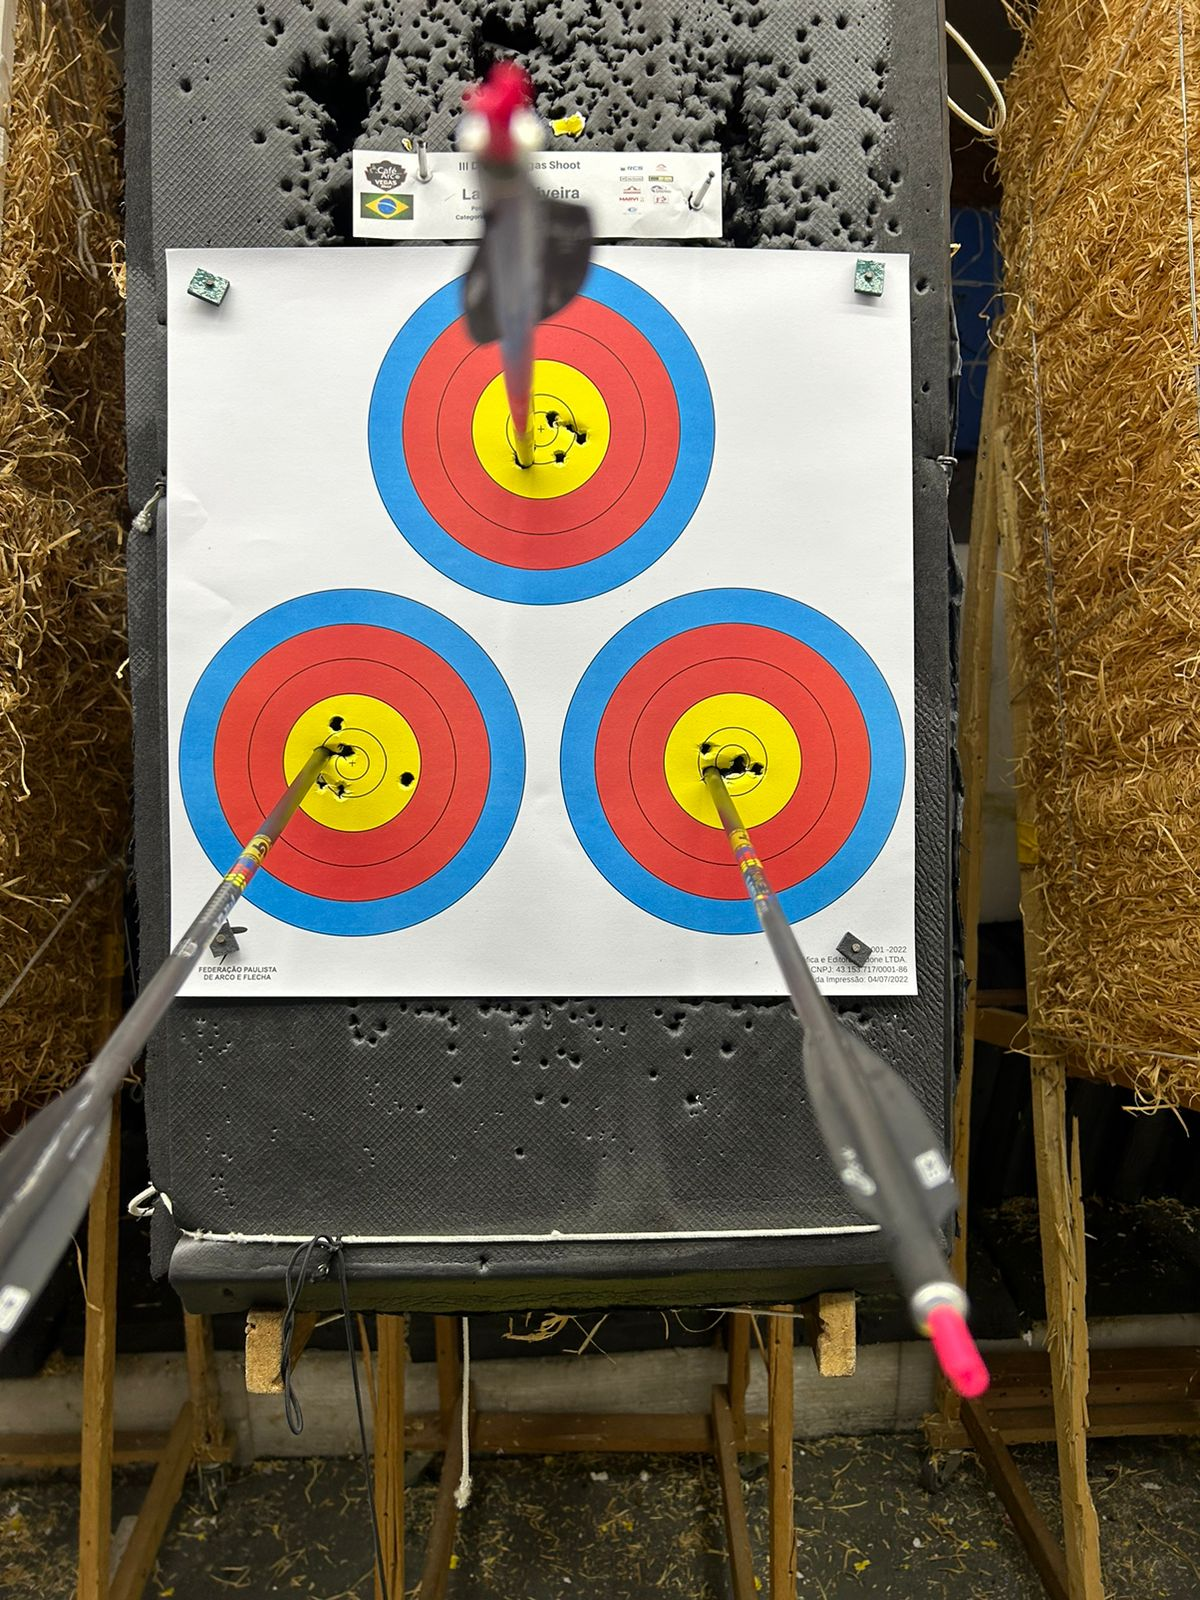9: (193, 601, 547, 934), (371, 277, 724, 597)
9 linha 10: (568, 597, 918, 957)
